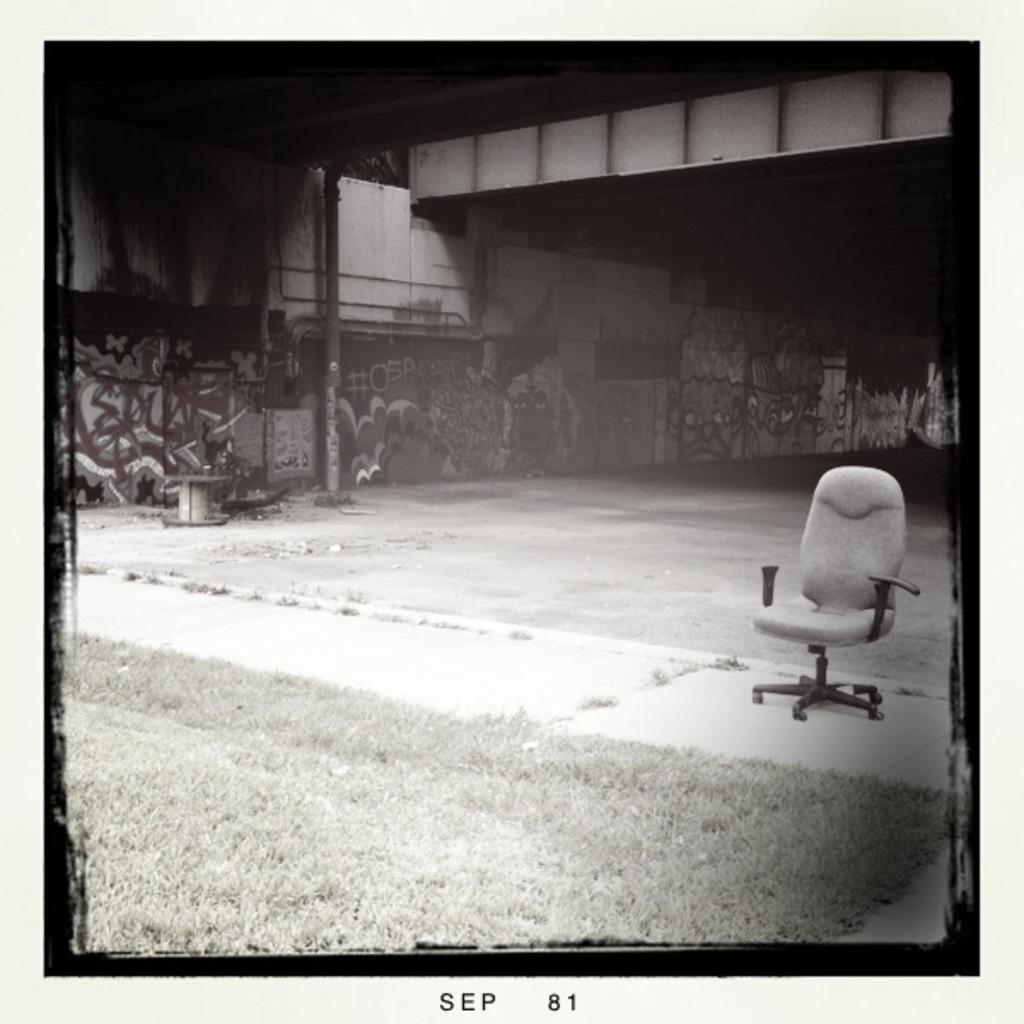Chair: (773, 457, 923, 736)
